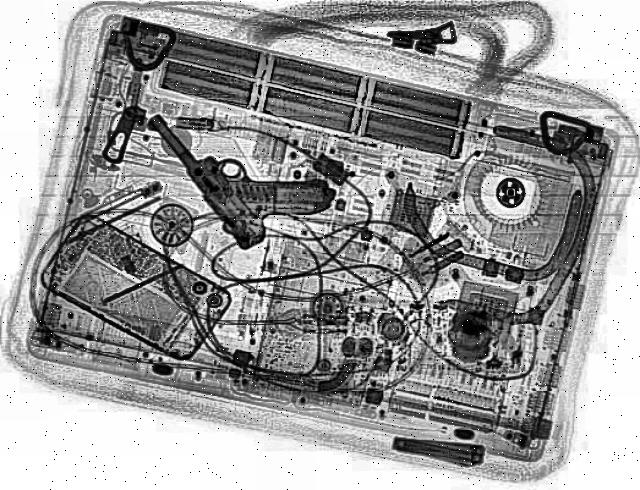Gun: (138, 80, 346, 252)
